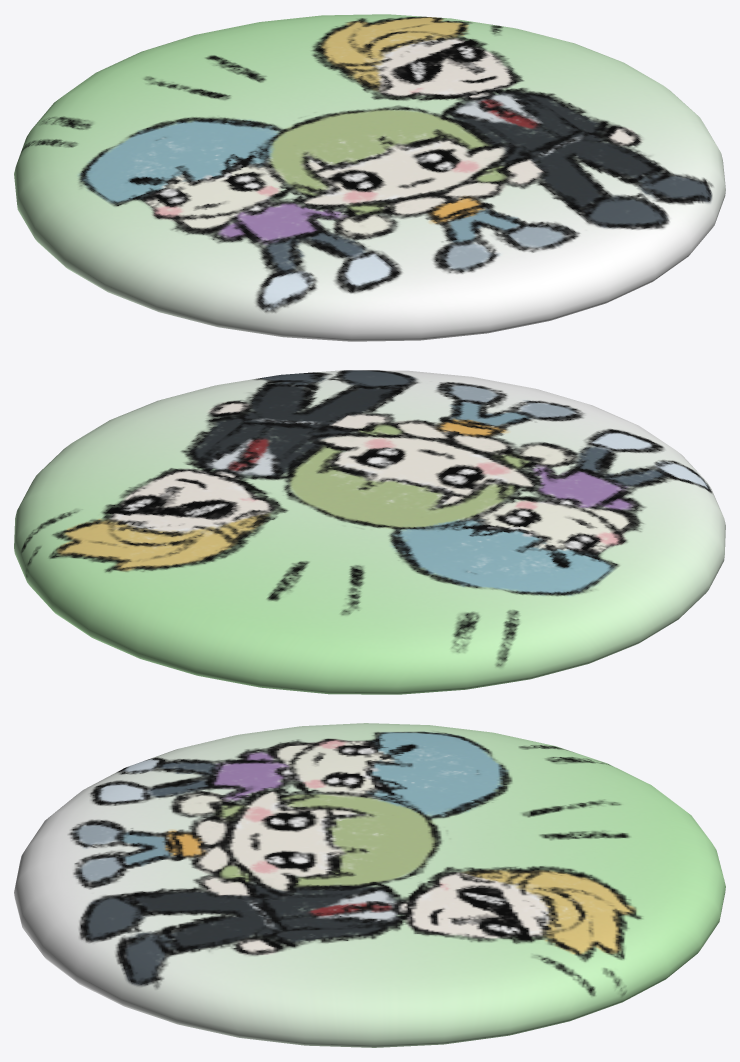
The model's file is button.glb.
3 views of the same model, one above another, from view 1: azimuth 30°, elevation 25°; view 2: azimuth 150°, elevation 25°; view 3: azimuth 270°, elevation 25° (orthographic).
Visible parts, largest first — view 1: Button_Pin; view 2: Button_Pin; view 3: Button_Pin.
Part boxes in pixels (bbox=[...]): Button_Pin: bbox=[14, 14, 725, 341]; Button_Pin: bbox=[14, 370, 725, 694]; Button_Pin: bbox=[14, 723, 725, 1047].
Bounding box in the file's own units: 0.0629 × 0.00761 × 0.0629.
Materials: 3 (2 with a texture image).
